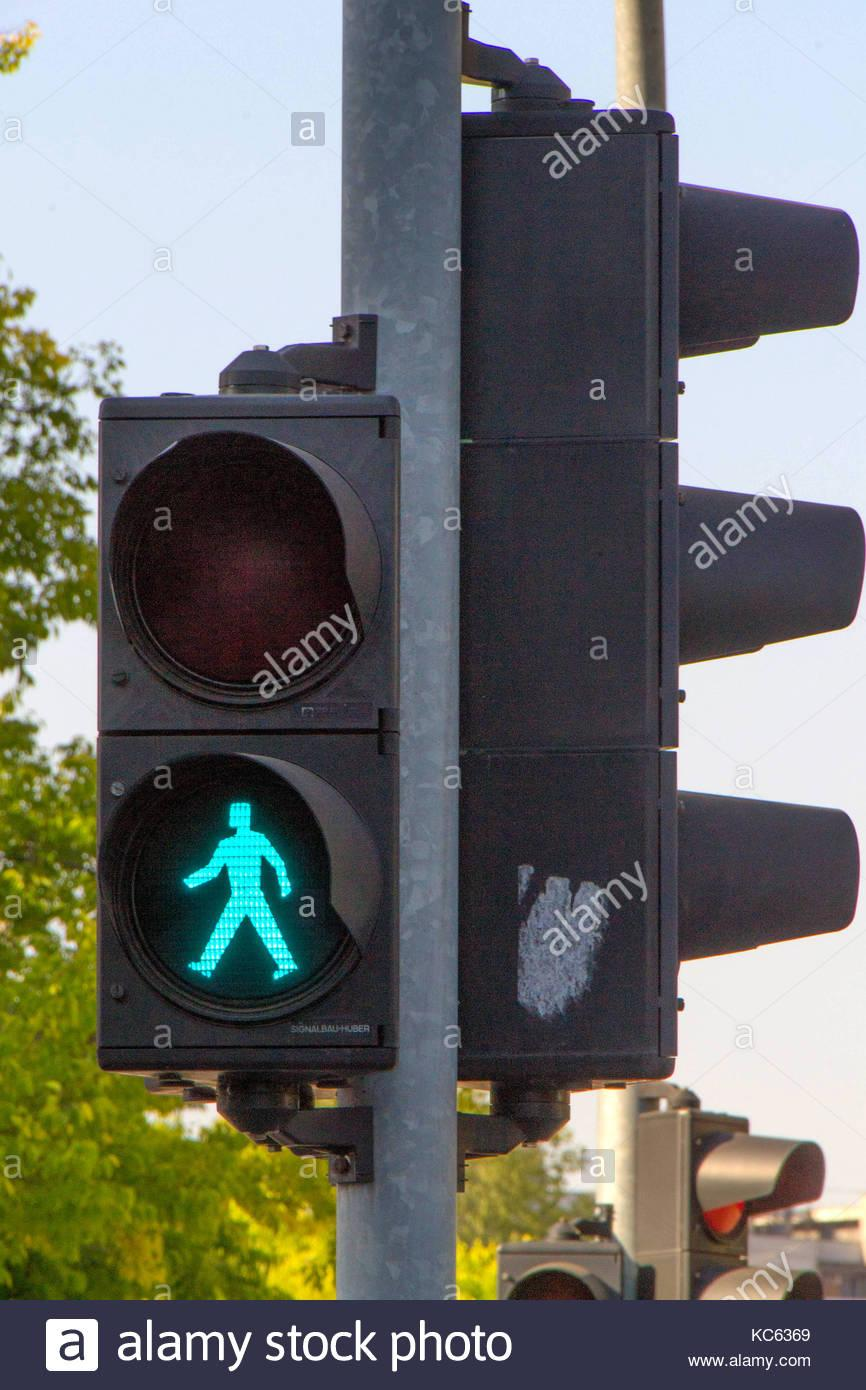Traffic light green: (77, 387, 410, 1073)
